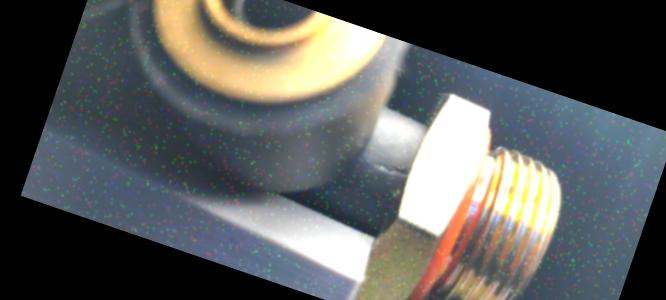craze: (371, 155, 410, 181)
